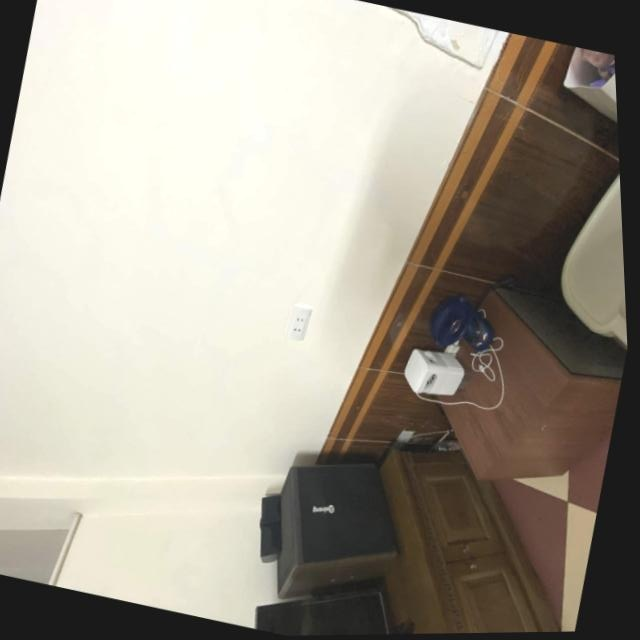outlet: (284, 304, 314, 345)
